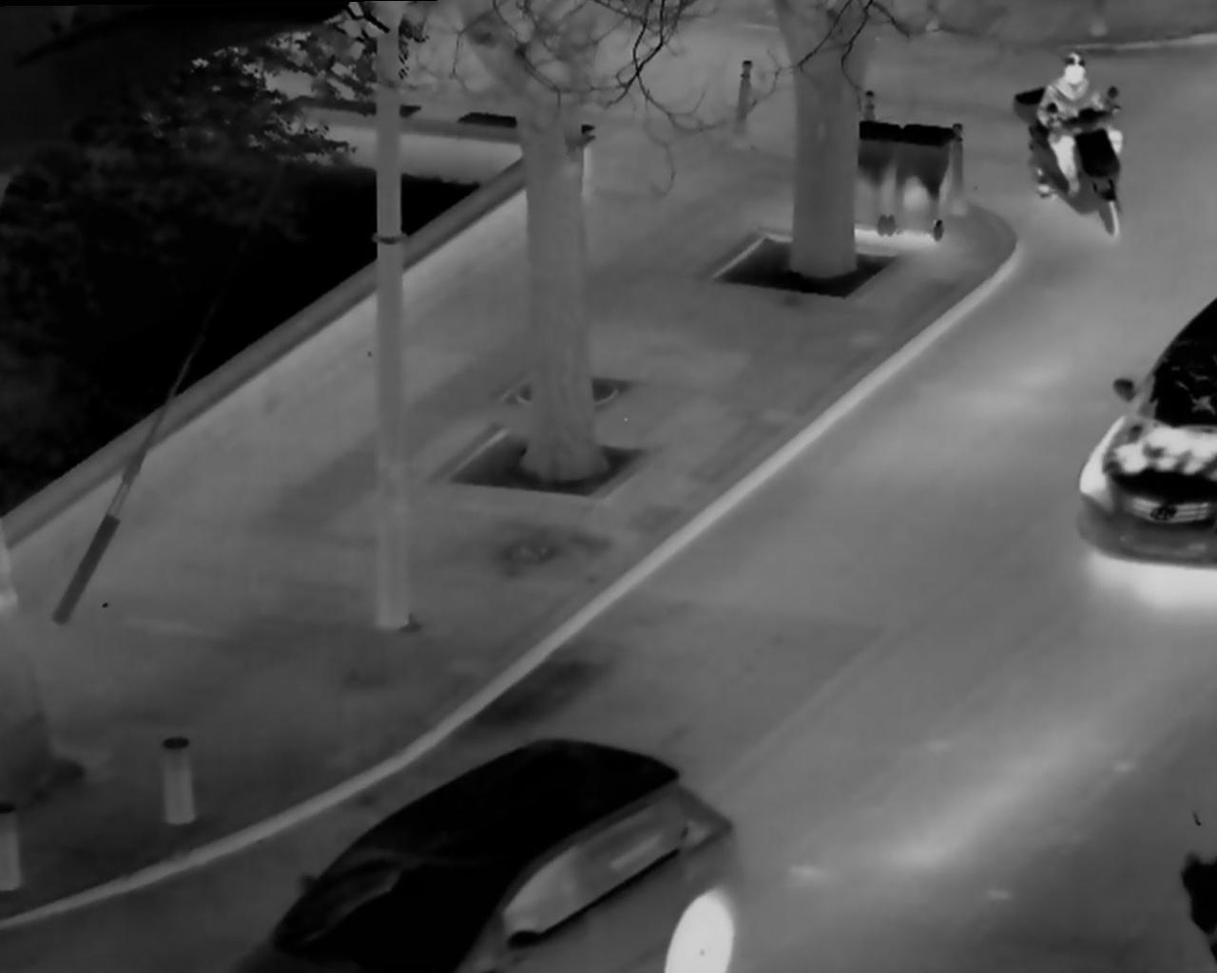person: (1034, 33, 1134, 224)
